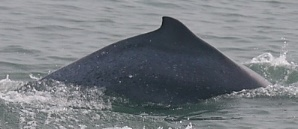fin: (28, 12, 279, 115)
